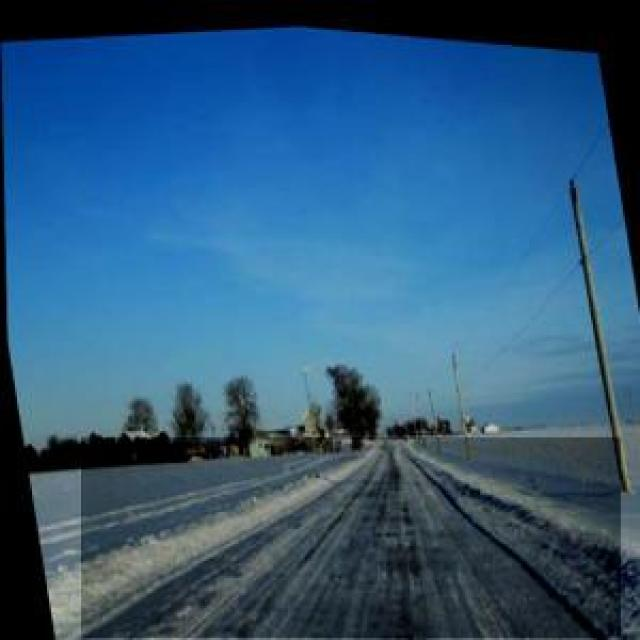ice-road: (82, 438, 621, 640)
